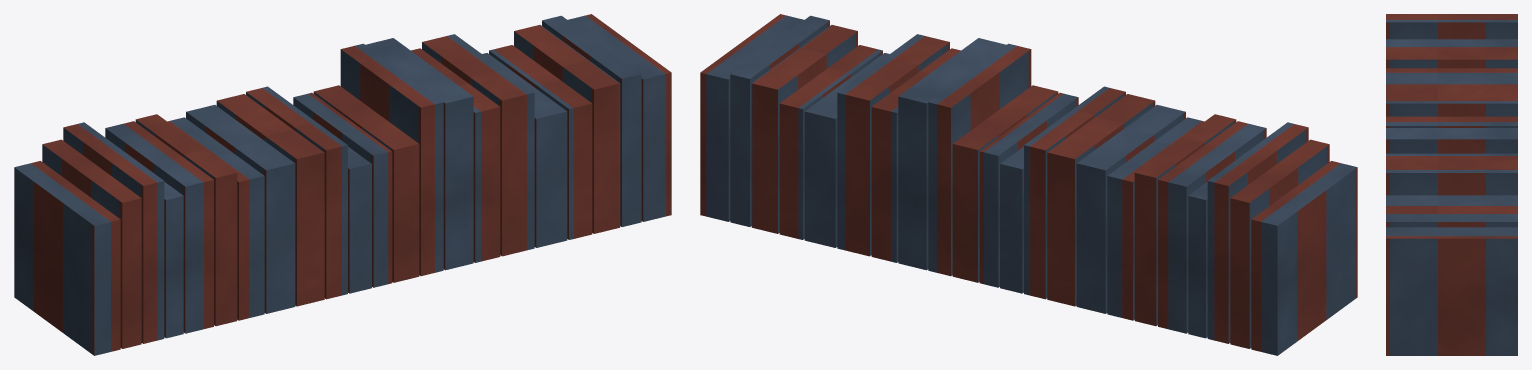
Rendered from BookGroup_Medium_3.gltf.
3 renders of one model, left to right at view 1: azimuth 30°, elevation 25°; view 2: azimuth 150°, elevation 25°; view 3: azimuth 270°, elevation 25°, orthographic. The views are drawn at different scales.
Parts seen in each view (by area): view 1: BookGroup_Medium_3; view 2: BookGroup_Medium_3; view 3: BookGroup_Medium_3.
Part boxes in pixels (box(x1,y1,x2,y2)): BookGroup_Medium_3: box(14, 14, 671, 355); BookGroup_Medium_3: box(700, 14, 1357, 355); BookGroup_Medium_3: box(1386, 14, 1517, 355).
Bounding box in the file's own units: 1.04 × 0.29 × 0.25.
Materials: 1 (1 with a texture image).
